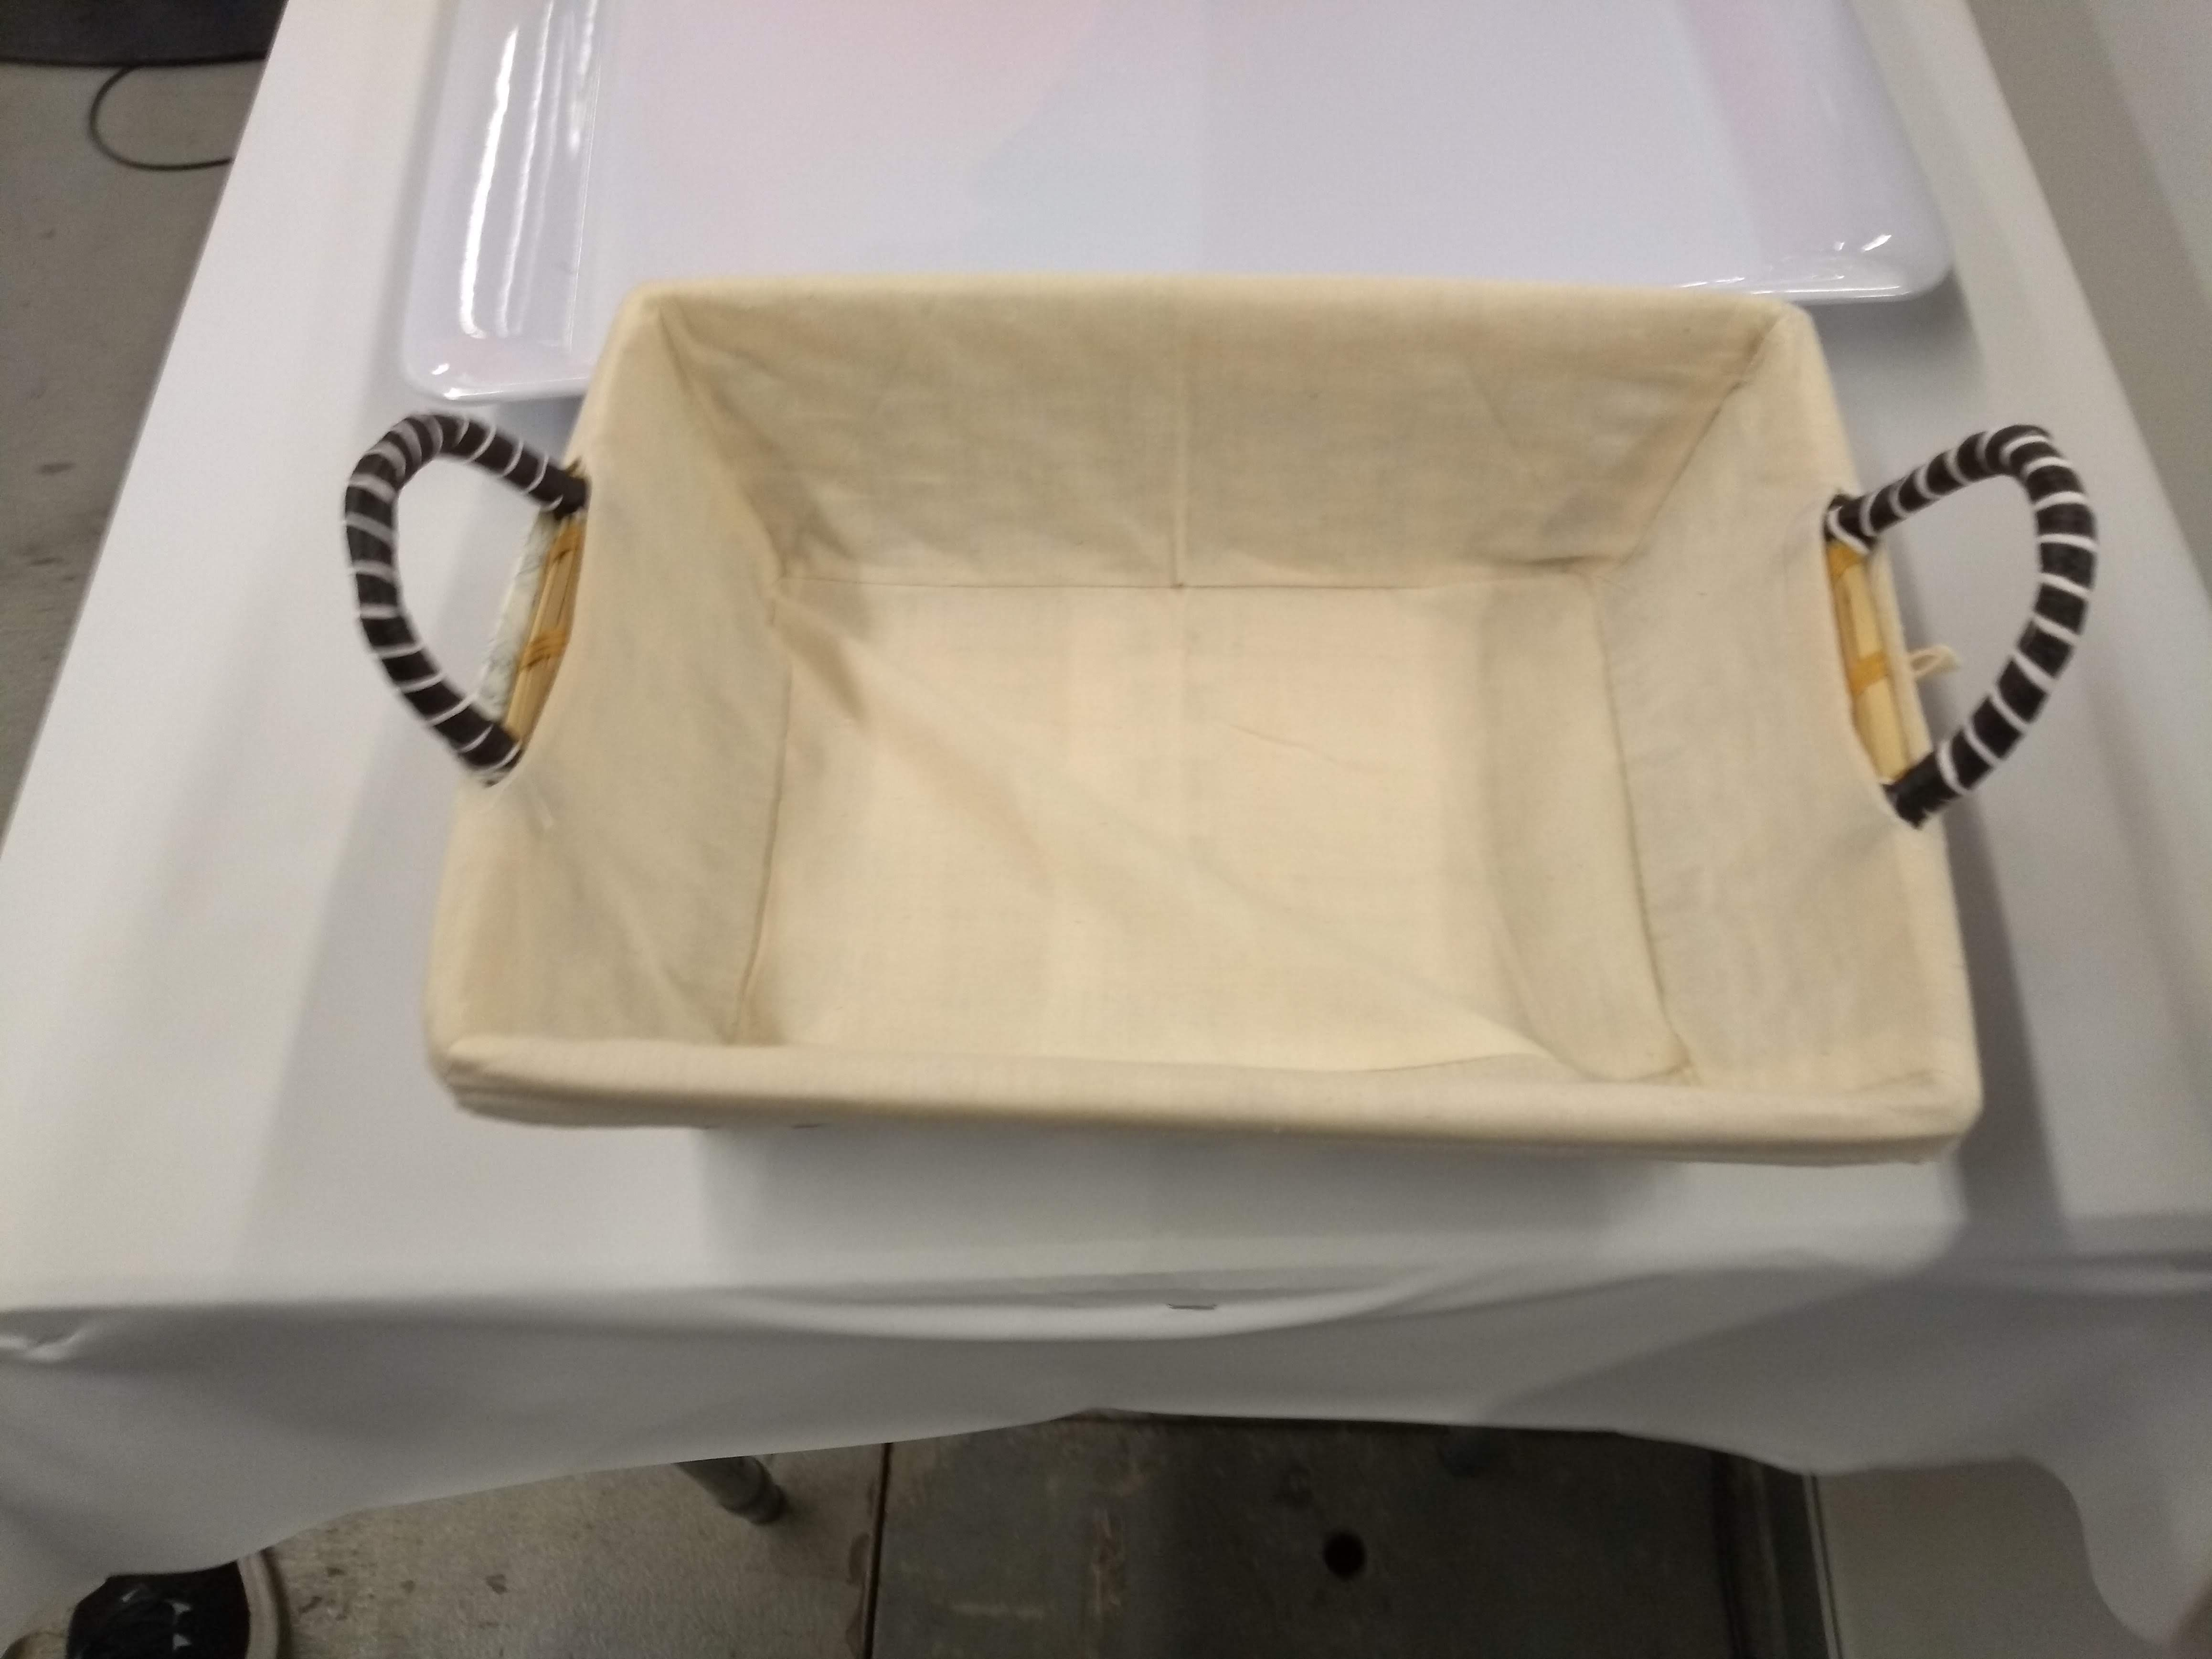basket: (366, 272, 2107, 1183)
tray: (390, 0, 1982, 408)
